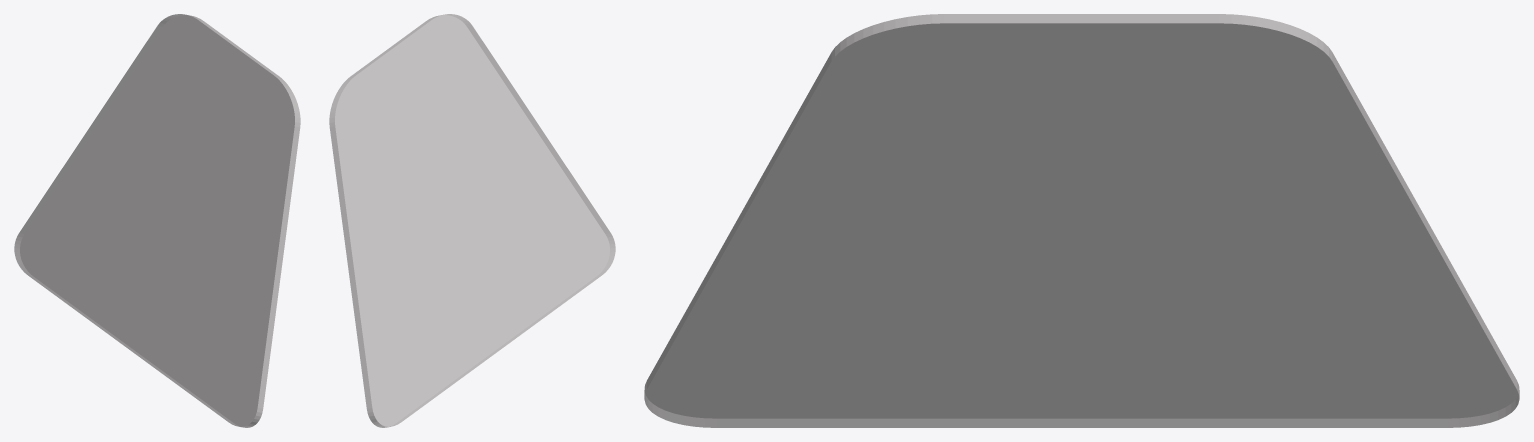
Rendered from amni3dmodel_left.glb.
3 renders of one model, left to right at view 1: azimuth 30°, elevation 25°; view 2: azimuth 150°, elevation 25°; view 3: azimuth 270°, elevation 25°, orthographic. The views are drawn at different scales.
Visible parts, largest first — view 1: Cube; view 2: Cube; view 3: Cube.
Part boxes in pixels (bbox=[...]): Cube: bbox=[14, 14, 300, 427]; Cube: bbox=[329, 14, 615, 427]; Cube: bbox=[644, 14, 1519, 427].
Bounding box in the file's own units: 0.2952 × 0.6875 × 1.08.
1 material, 1 textured.
